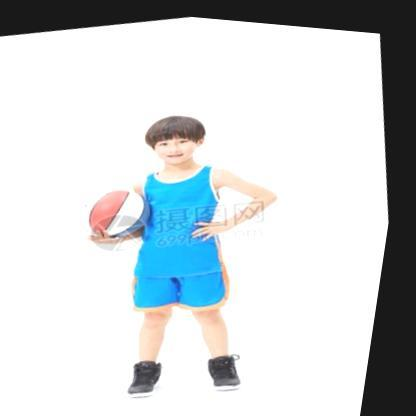basketball: (77, 178, 163, 241)
